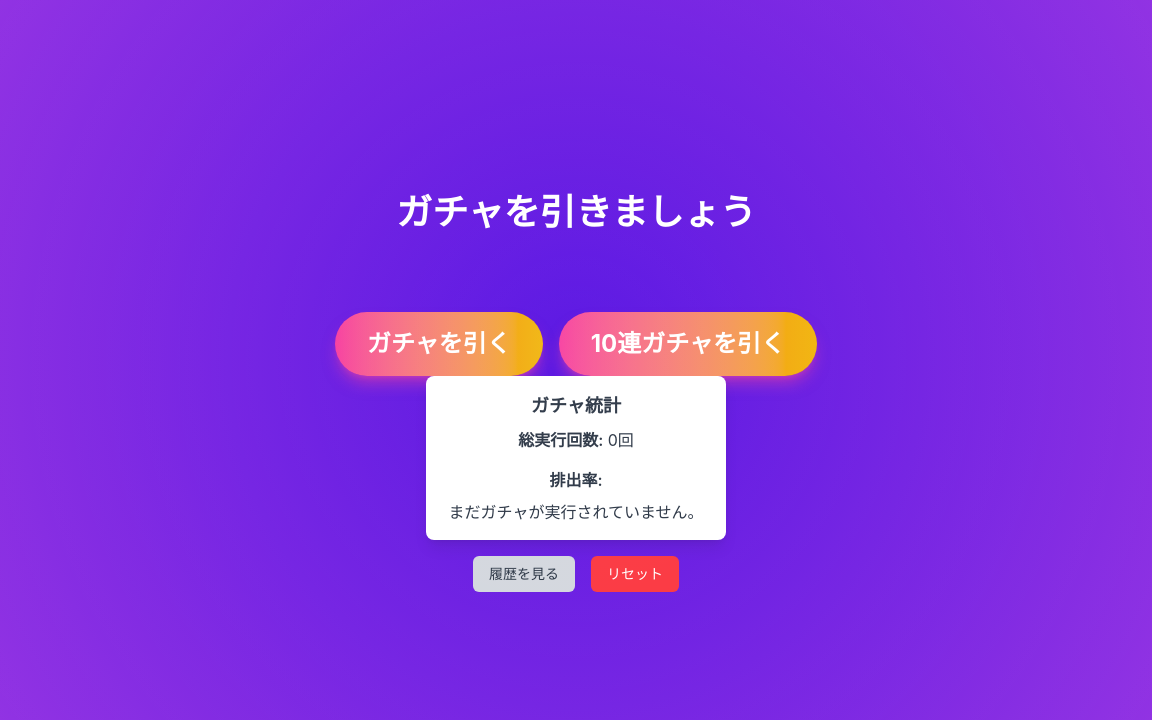
Scenario: App component › fetches 10 gacha results and updates the display
Click the button "10連ガチャを引く". click: (688, 344)
box: [559, 312, 817, 376]
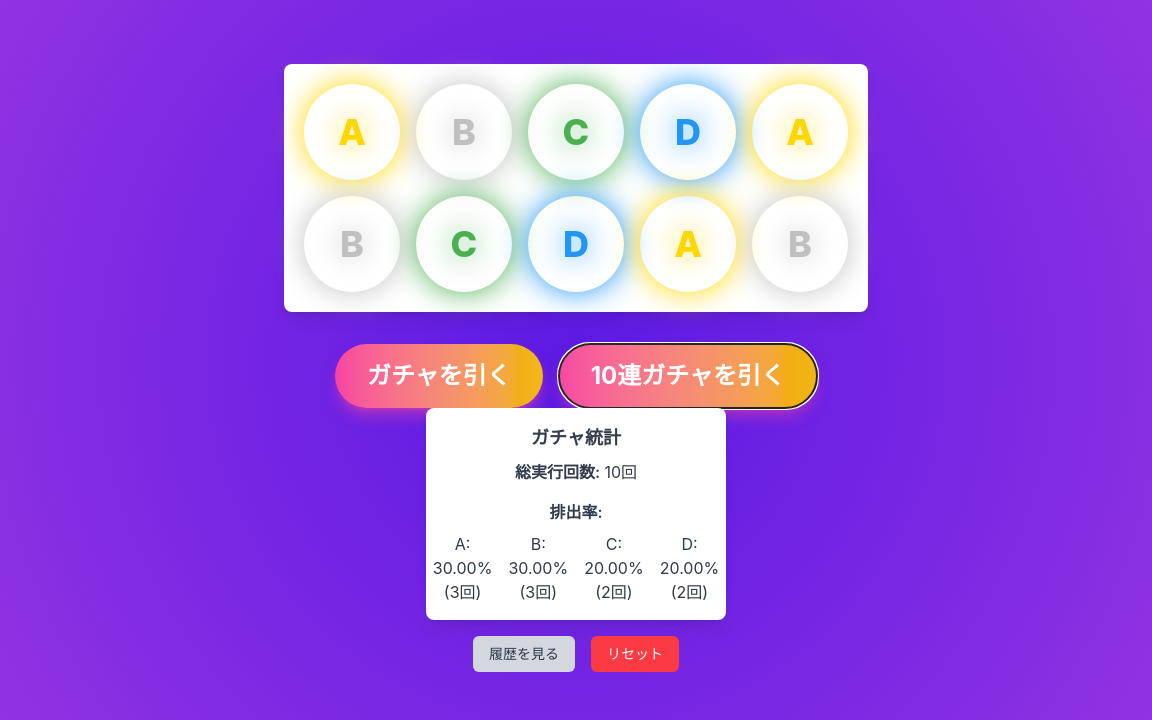
Expected: the list item "A: 30.00% (3回)" is shown, [433, 532, 492, 604]
Expected: the list item "B: 30.00% (3回)" is shown, [508, 532, 568, 604]
Expected: the list item "C: 20.00% (2回)" is shown, [584, 532, 644, 604]
